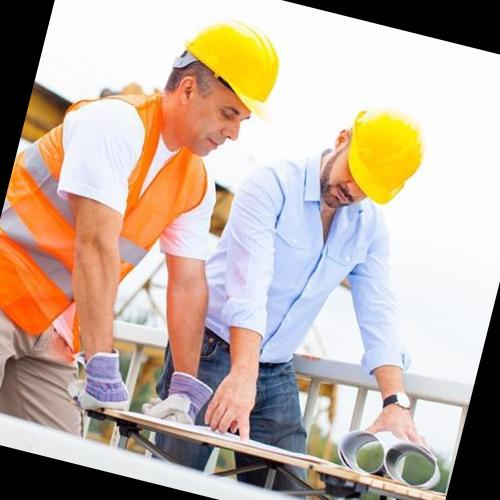Helmet: (171, 1, 297, 130), (330, 101, 430, 215)
Vest: (0, 69, 210, 371), (193, 149, 394, 399)
